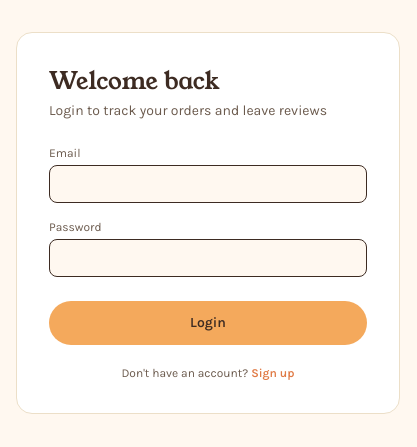
Test: LoginPage - unit tests › submits email/password to Supabase and shows authentication errors
Step 1. Type "customer@example.com" into the field → coordinates (208, 184), box [49,164,367,202]
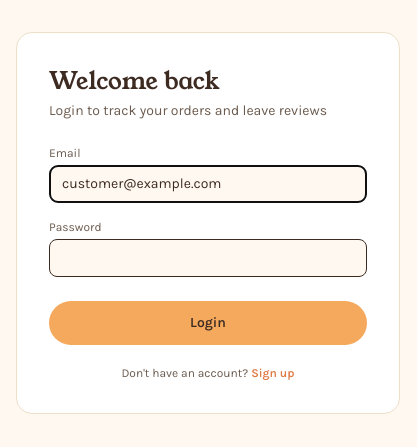
Step 2. Type "wrong-password" into the password field → coordinates (208, 258), box [49,238,367,276]
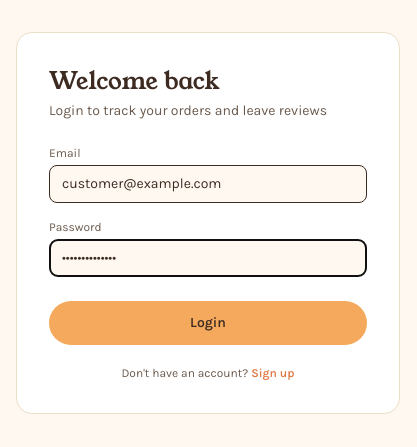
Step 3. Click the button "Login" → coordinates (208, 322), box [49,300,367,344]
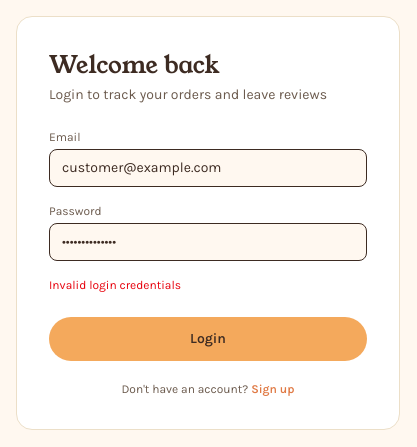
Check: the text "Invalid login credentials" is shown, box [49,278,181,292]
